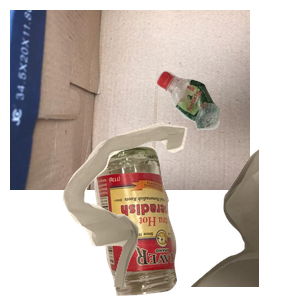cardboard: (10, 10, 250, 190)
glass: (91, 142, 260, 300)
plastic: (153, 68, 300, 190)
trash: (60, 120, 300, 300)
